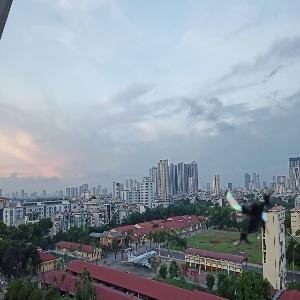drone: (212, 172, 288, 248)
